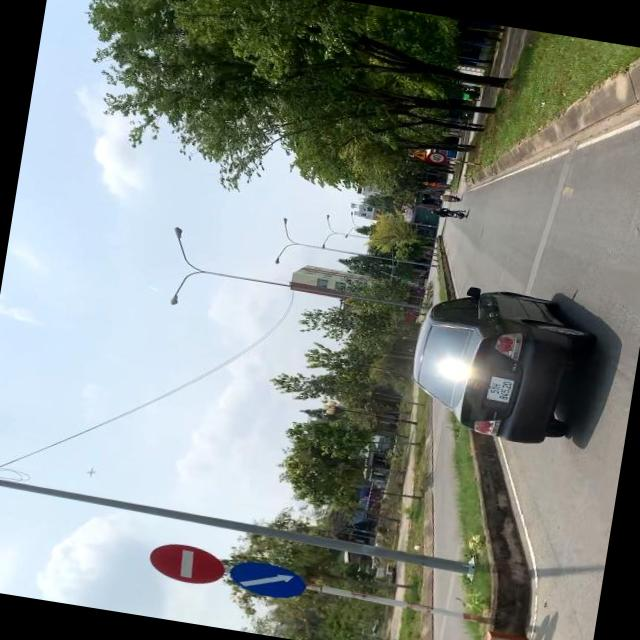P-102: (145, 539, 230, 587)
R-302a: (226, 556, 310, 602)
